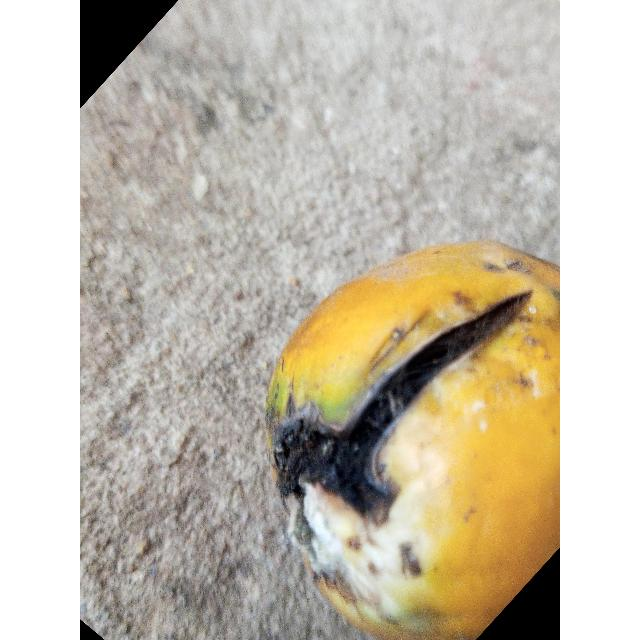damaged: (266, 241, 560, 640)
